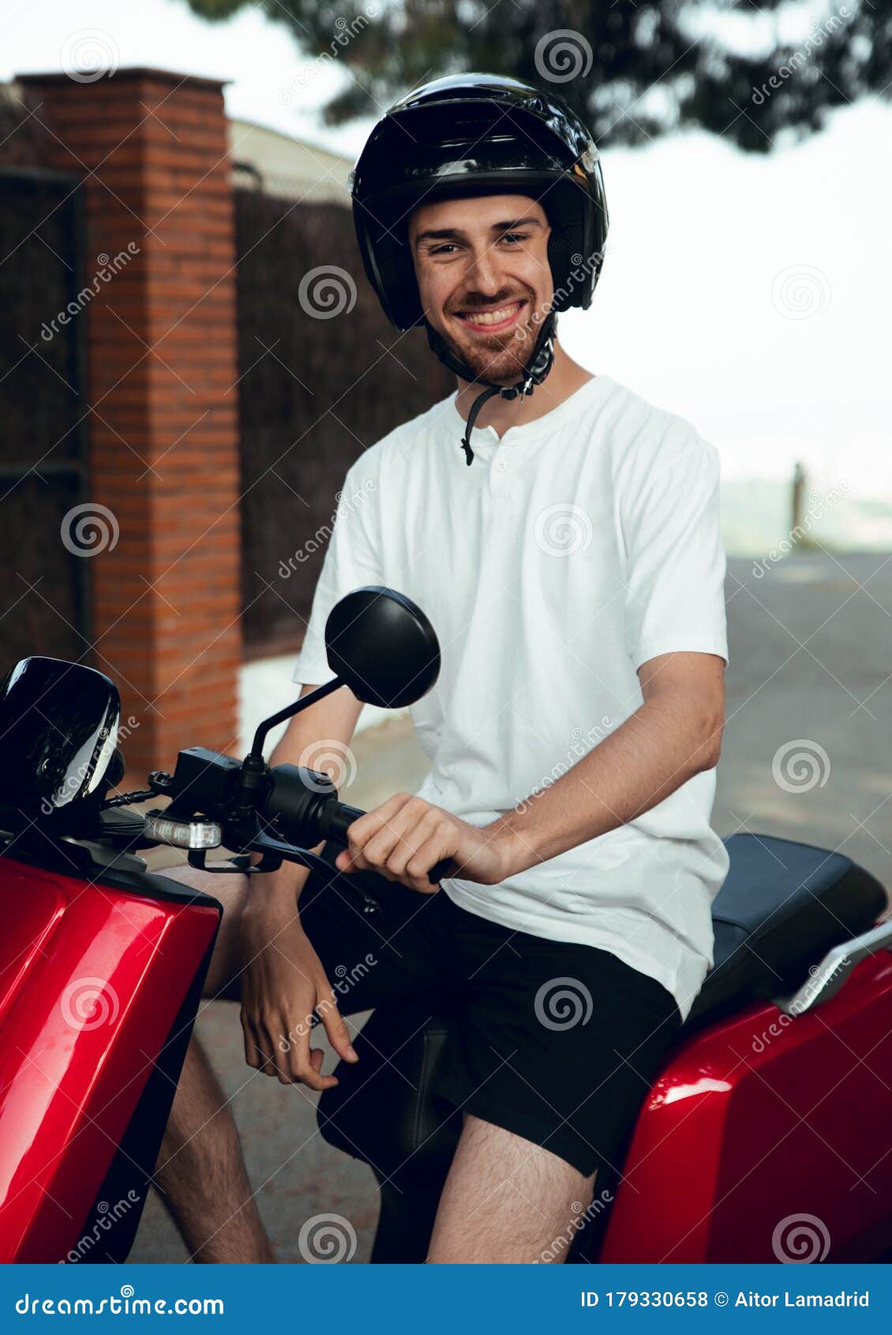helmets: (343, 74, 615, 348)
